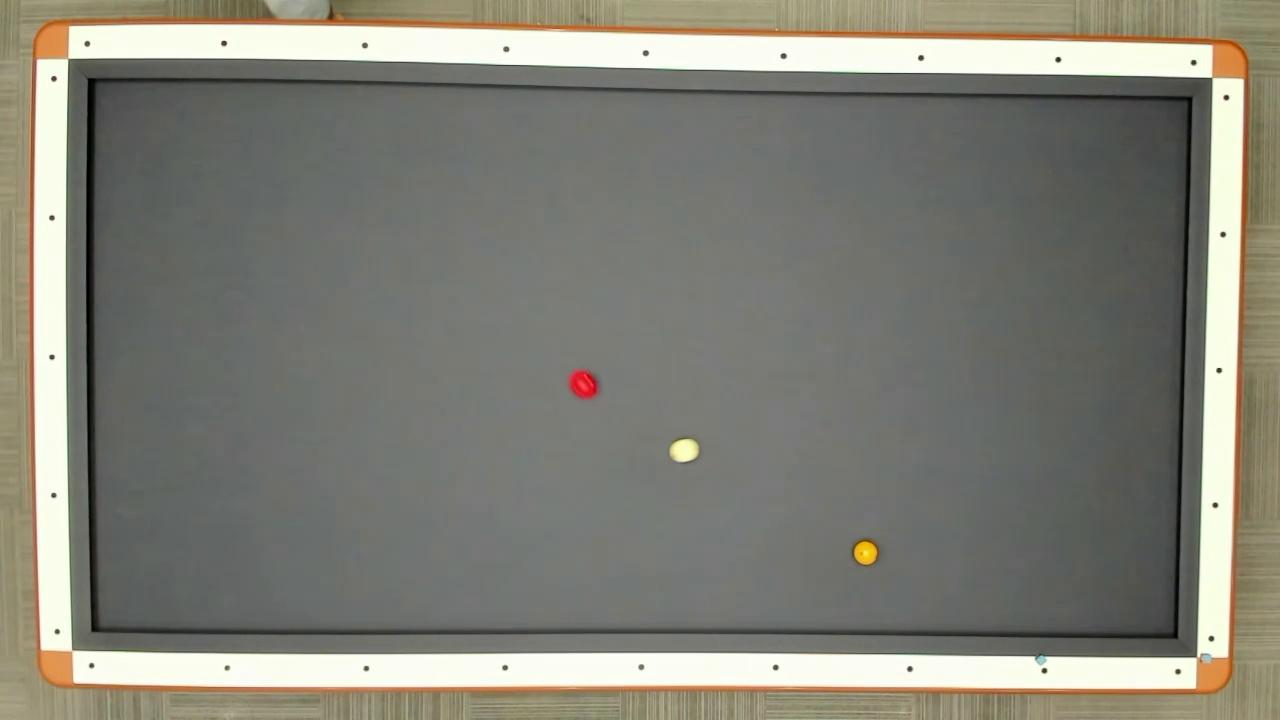Red: (567, 368, 599, 401)
White: (668, 436, 702, 466)
Yellow: (852, 540, 879, 568)
